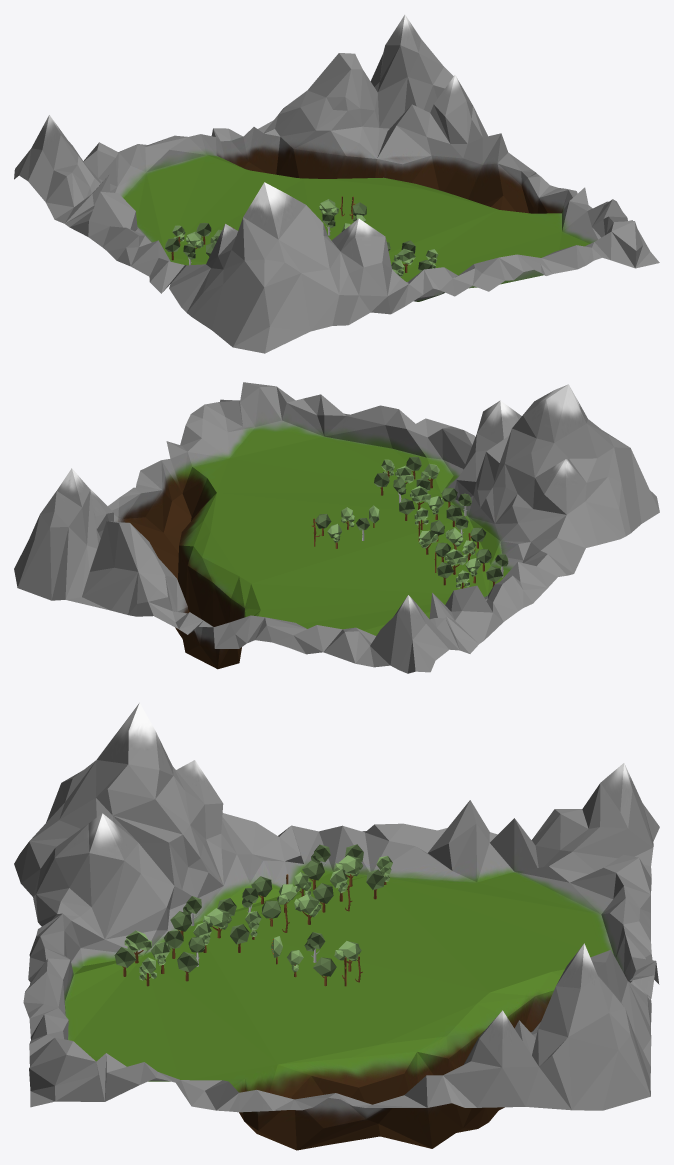
File: landscape_02.obj
3 views of the same model, one above another, from view 1: azimuth 30°, elevation 25°; view 2: azimuth 150°, elevation 25°; view 3: azimuth 270°, elevation 25° (orthographic). The views are drawn at different scales.
Parts seen in each view (by area): view 1: obj8; view 2: obj8; view 3: obj8.
Boxes of the visible parts, box(x1,y1,x2,y2) form: obj8: box(14, 15, 659, 353); obj8: box(14, 382, 659, 673); obj8: box(14, 702, 659, 1150).
Size of the model in its own units: 2679 by 1165 by 2663.
